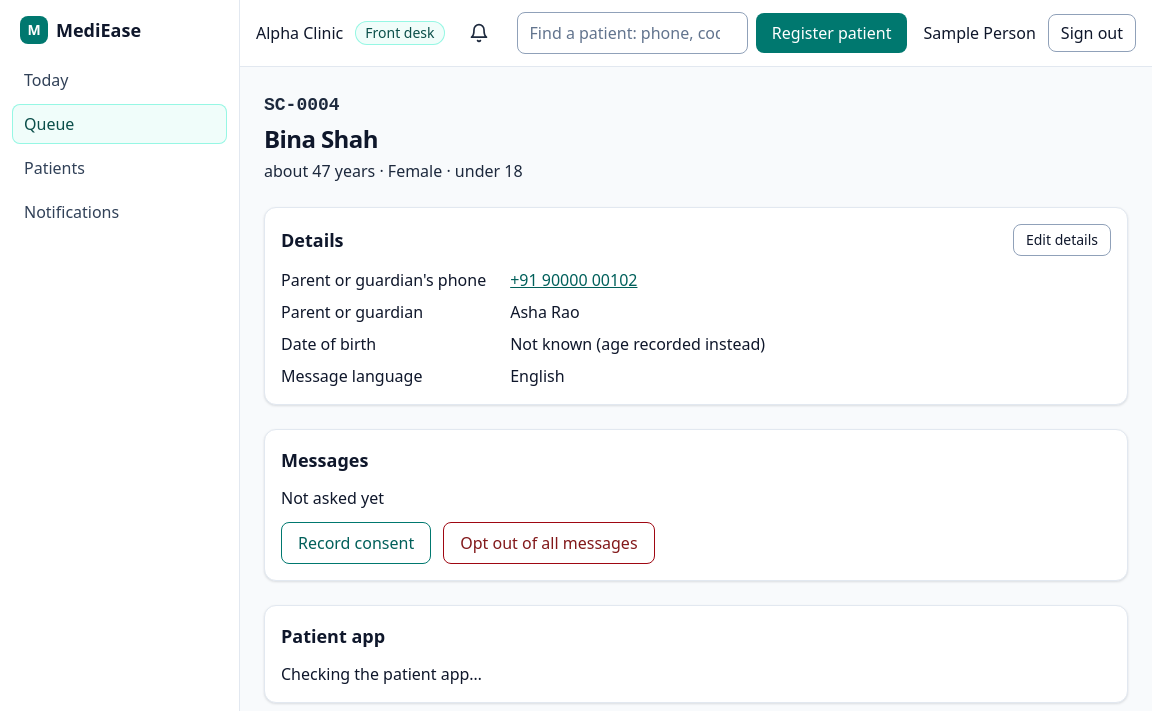
Test: consent, opt-out and opt-in (FR-PAT-05, FR-MSG-05) › FR-PAT-06: for a minor the script asks the parent or guardian
Step 1. Click the button "Record consent" → (356, 543), box [281, 522, 431, 564]
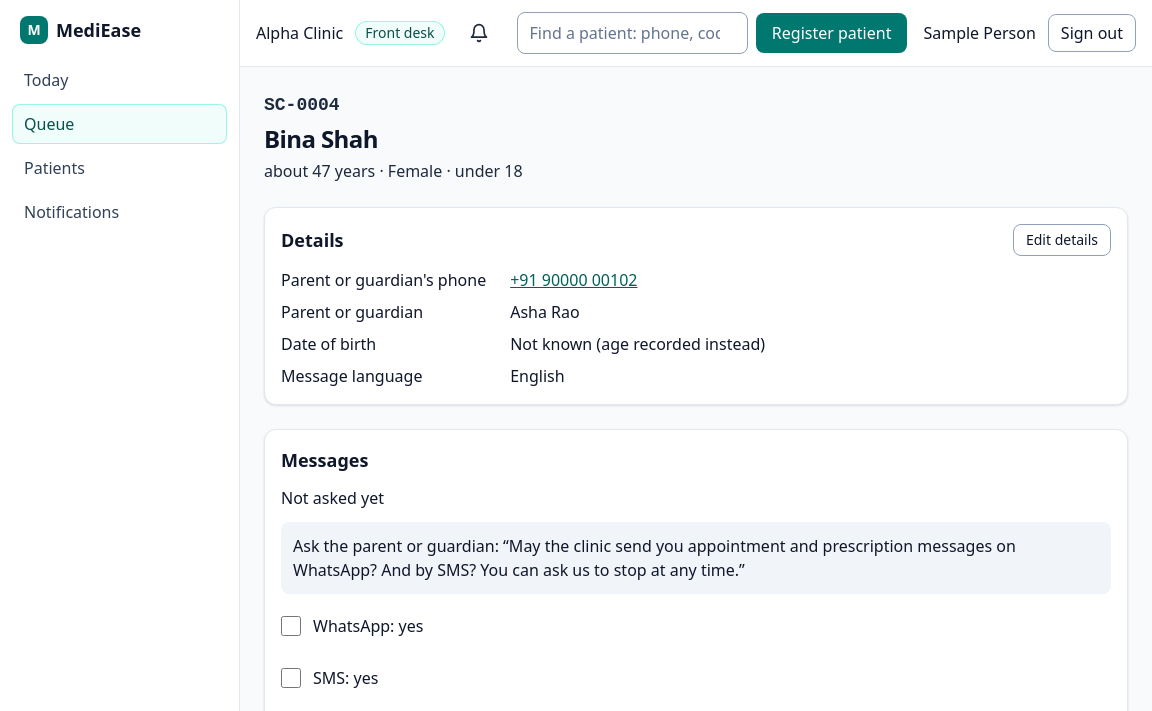
Expected: the text "Ask the parent or guardian:" is shown, [281, 522, 1111, 594]
